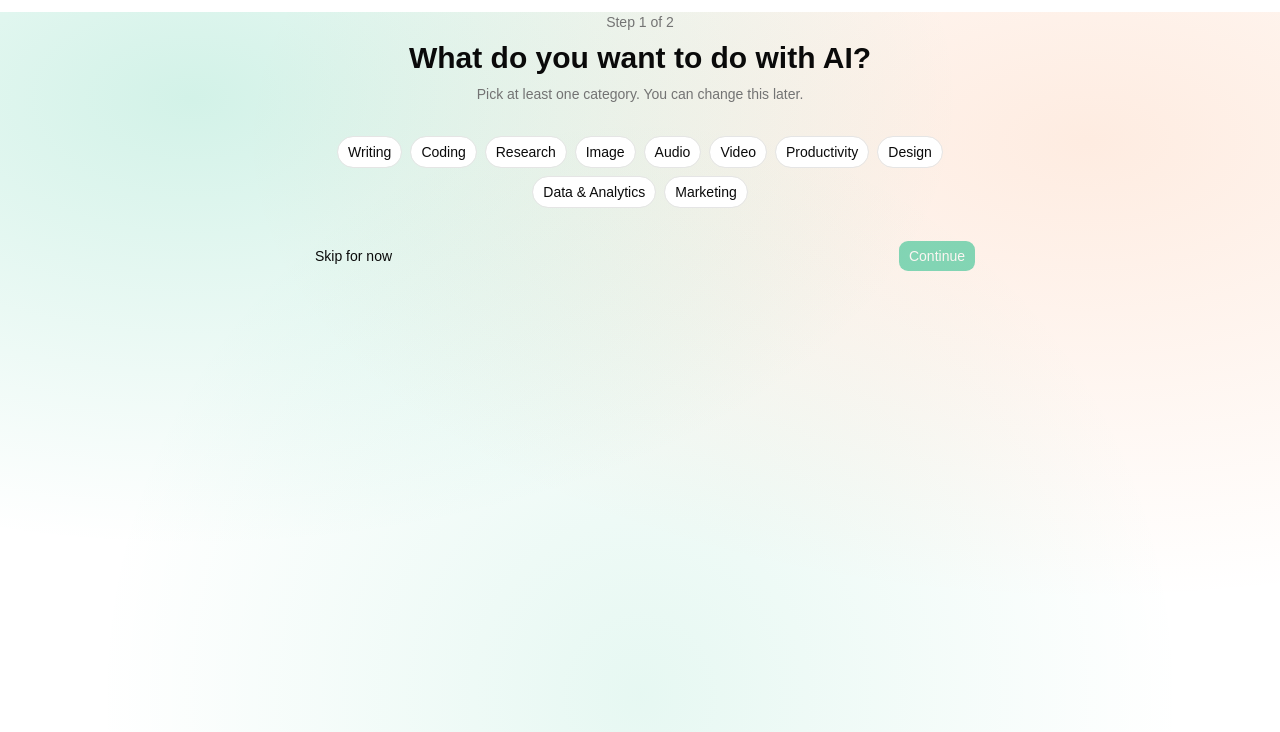
Scenario: OnboardingInterestsStep › clicking a chip toggles aria-pressed and enables Continue
The width and height of the screenshot is (1280, 732).
Click the button "Writing": (370, 152) [337,136,402,168]
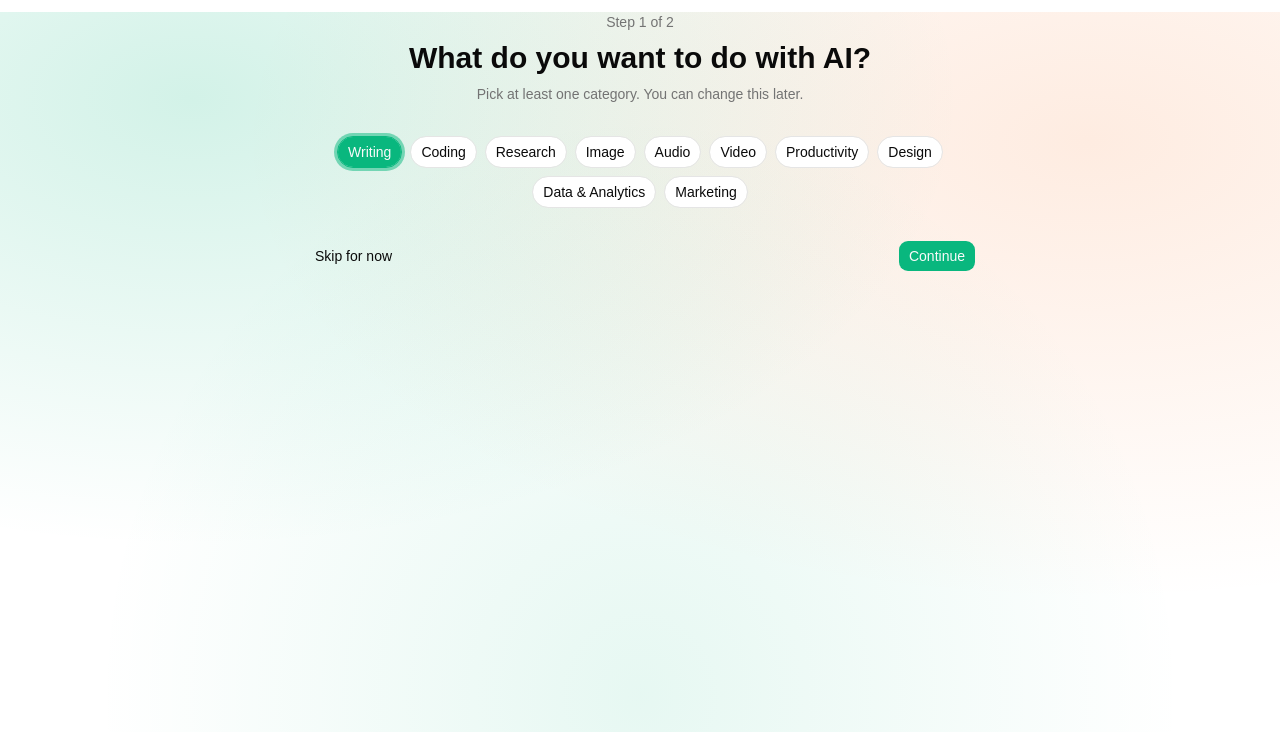
expect the button "Continue" is enabled: met, box [898,240,976,272]
